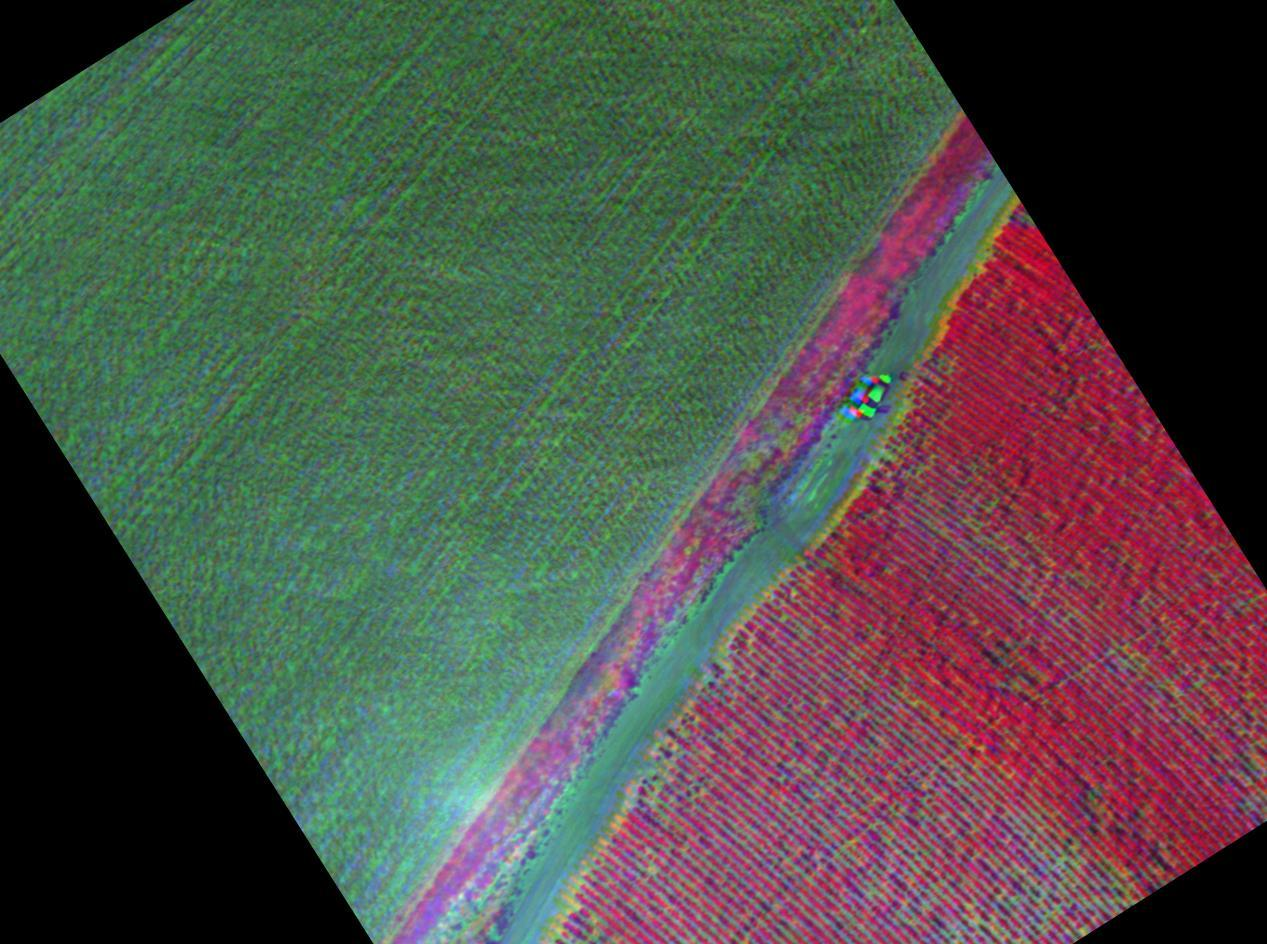dc: (1005, 843, 1104, 944), (655, 806, 732, 893), (868, 820, 928, 904), (801, 721, 863, 801), (704, 651, 761, 713)
